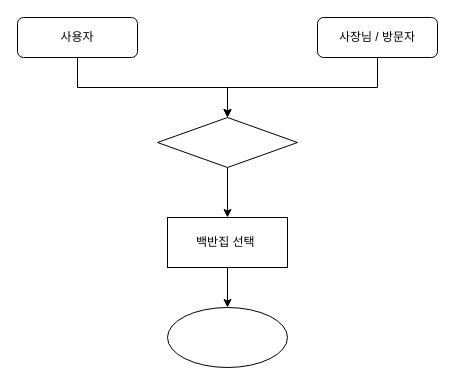
This 455x385 diagram has some shape labels left out. The shapes that lost their labels are listed below. From the top down, each one's box as (x1, y1, x2, y2) in pixels, then its label:
(156, 116, 298, 168): 검색 / 위치기반
(166, 306, 288, 368): 오늘의 메뉴
